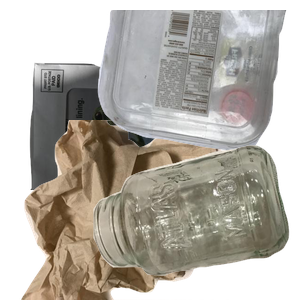glass: (91, 143, 300, 300)
paper: (27, 60, 223, 240)
plastic: (95, 10, 300, 154)
trash: (19, 120, 249, 300)
